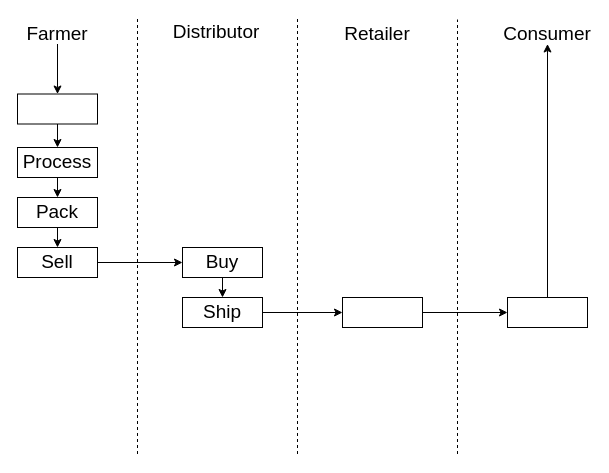
This 609x473 diagram has some shape labels left out. Each missing label, with the centre of its shape:
Harvest: the point at 57,108
Purshase: the point at 547,312
Receive: the point at 382,312
